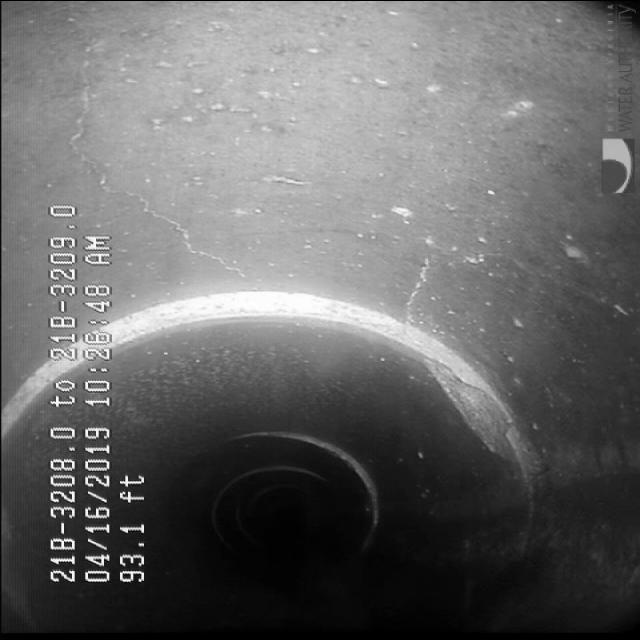Crack: (75, 154, 245, 266)
